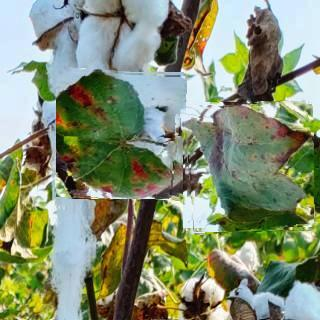blight: (182, 101, 314, 232), (56, 70, 185, 200)
